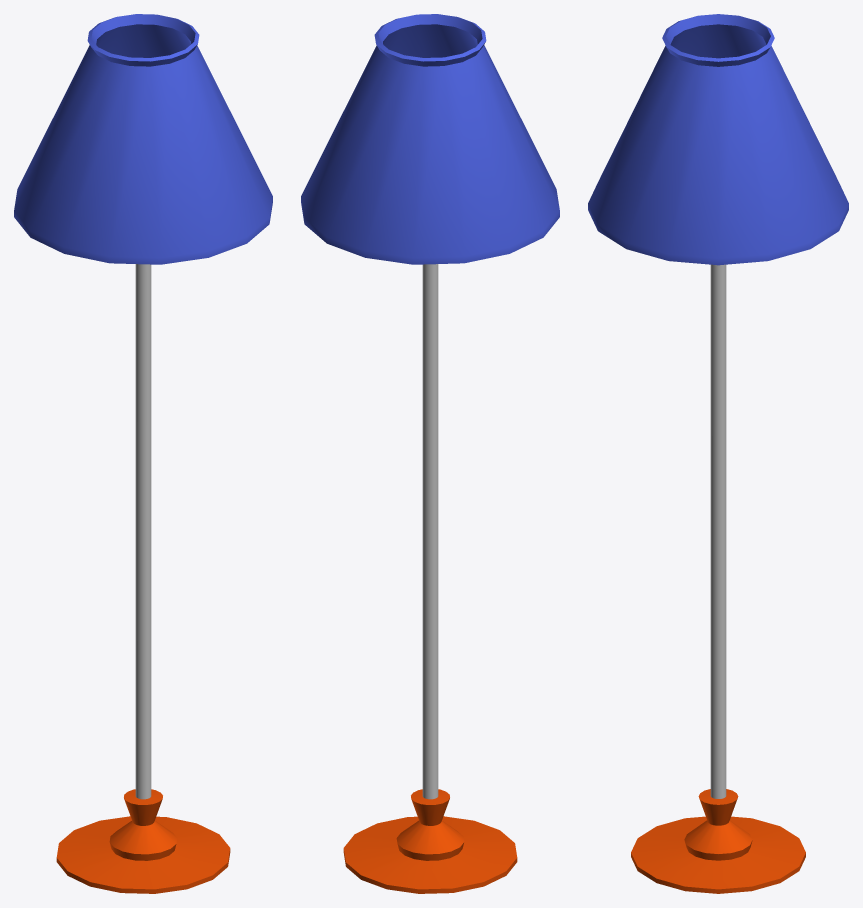
File: StandingLamp_v1.fbx
3 renders of one model, left to right at view 1: azimuth 30°, elevation 25°; view 2: azimuth 150°, elevation 25°; view 3: azimuth 270°, elevation 25°, orthographic.
Visible parts, largest first — view 1: Standing lamp; view 2: Standing lamp; view 3: Standing lamp.
Boxes of the visible parts, x1,y1,x2,y2 form: Standing lamp: [14, 14, 272, 893]; Standing lamp: [301, 14, 559, 893]; Standing lamp: [588, 14, 848, 893].
Size of the model in its own units: 59.43 by 206 by 59.43.
